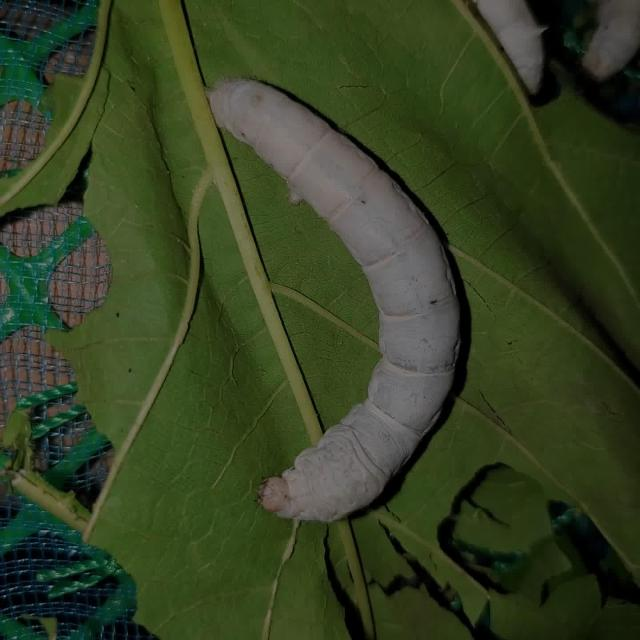Healthy: (202, 66, 471, 532)
